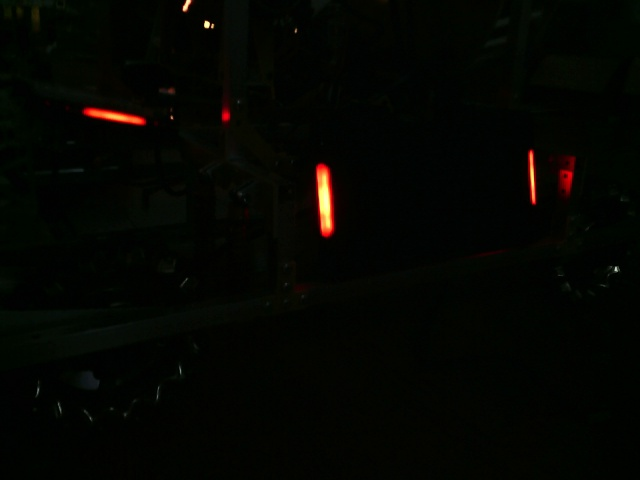lamp: (311, 163, 336, 239)
